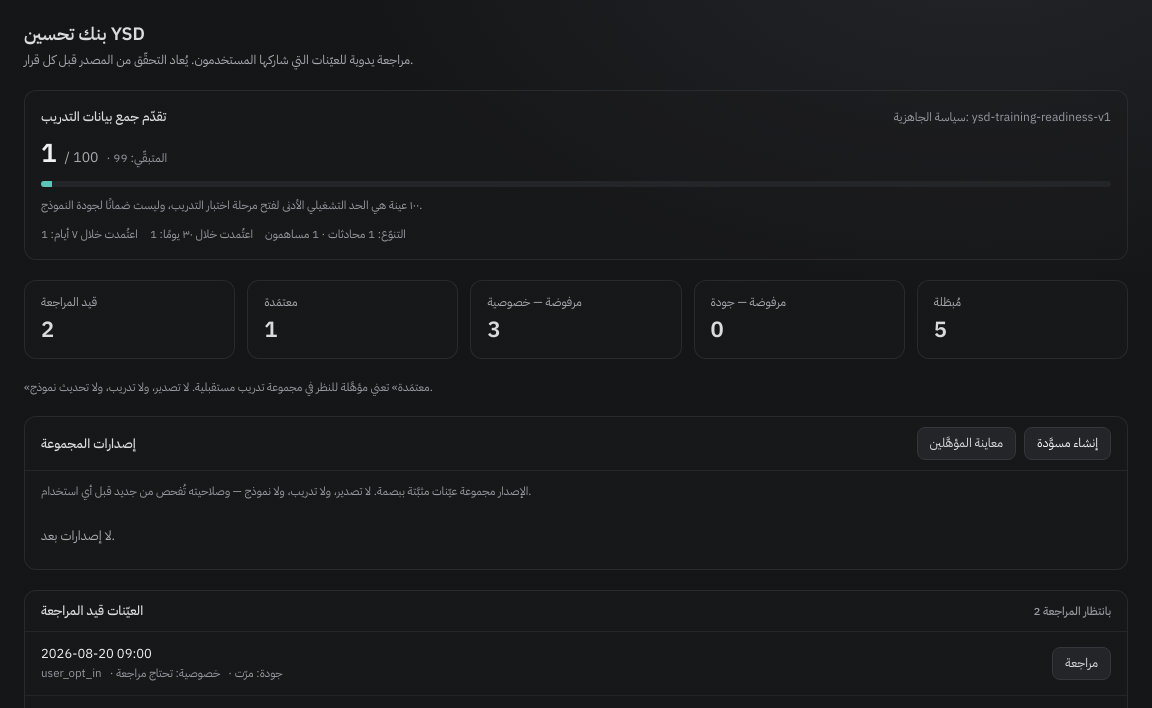
Test case: ★ (٢) المعاينة — تحذيرٌ قبل النصّ › ★ ★ والتحذير ظاهرٌ مع النصّ
Click the 1st button "مراجعة".
click(1082, 663)  # box [1052,647,1111,680]
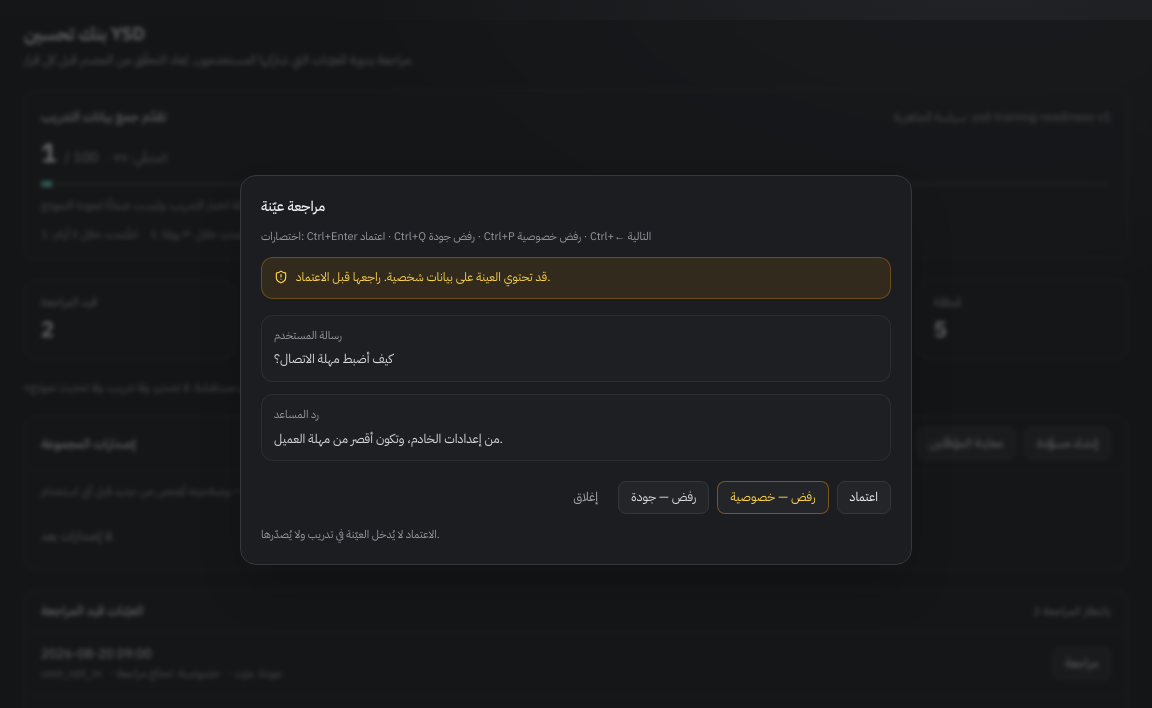
Now the text "قد تحتوي العينة على بيانات شخصية. راجعها قبل الاعتماد." is shown, box [296,268,550,288]
Now the text "كيف أضبط مهلة الاتصال؟" is shown, box [274,349,393,368]
Now the text "من إعدادات الخادم" is shown, box [274,429,503,448]
